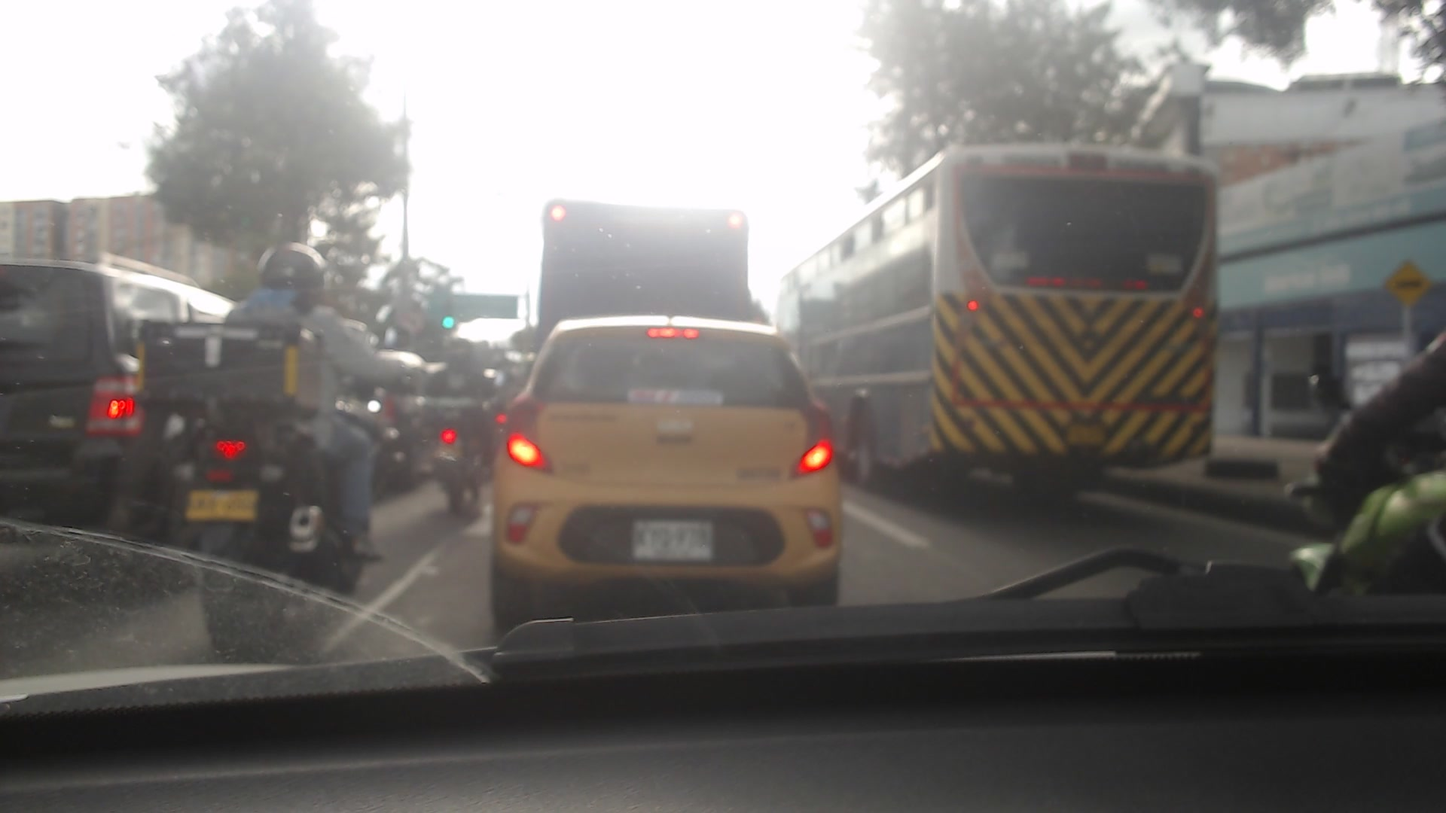bus: (759, 139, 1229, 493)
car: (482, 315, 851, 620), (2, 259, 240, 597)
motorcycle: (163, 416, 404, 656), (419, 419, 495, 514)
person: (184, 231, 408, 559), (426, 329, 502, 446)
truck: (516, 189, 762, 341)
